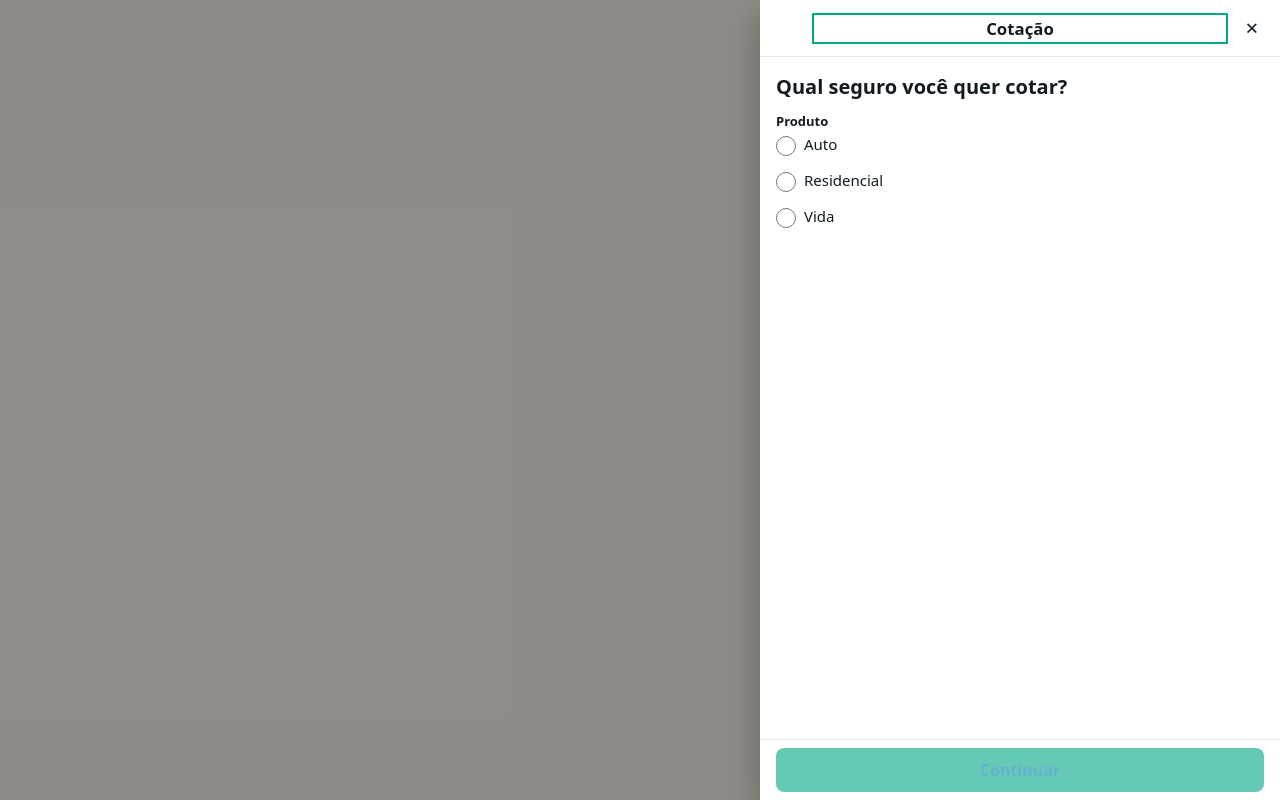
FlowSheet › Back returns to the previous screen and keeps the values
Click the radio button labelled "Auto".
click(786, 146)  # box x1=776 y1=136 x2=796 y2=156
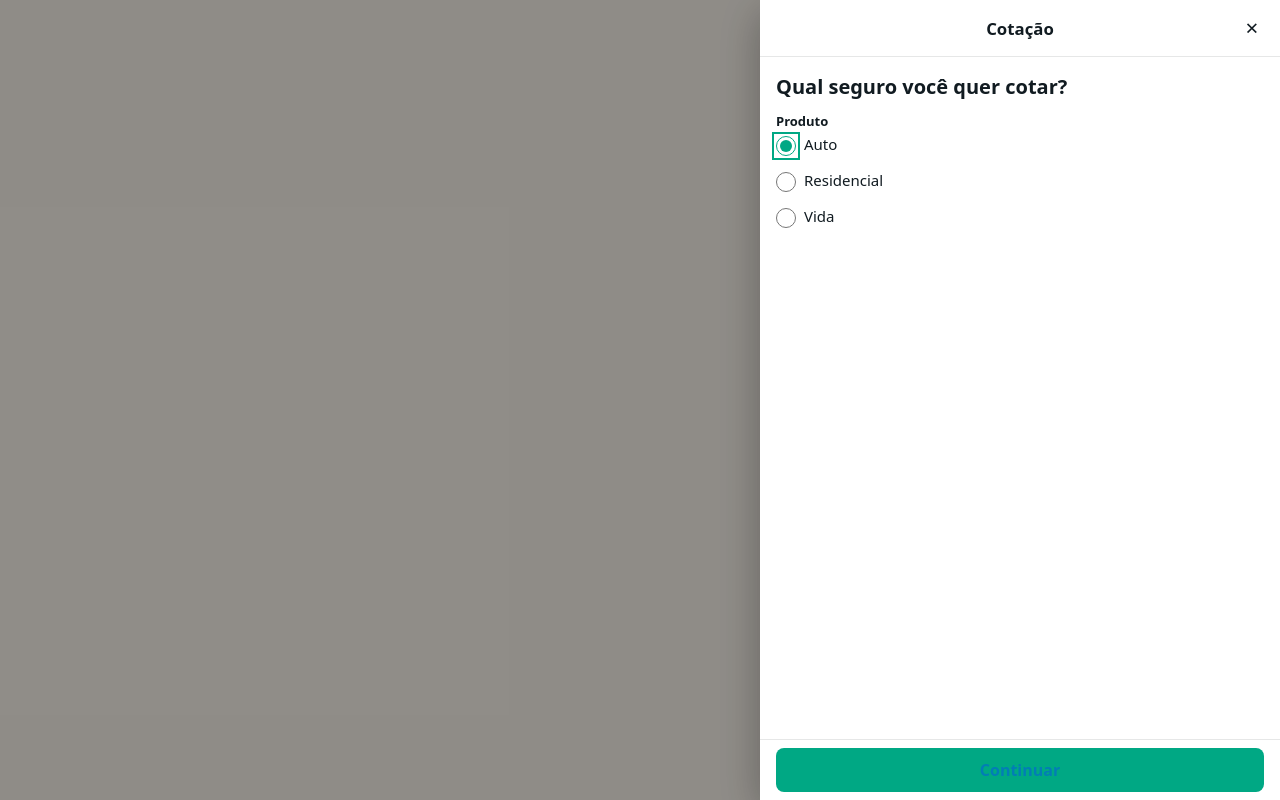
Click the button "Continuar".
click(1020, 770)  # box x1=776 y1=748 x2=1264 y2=792
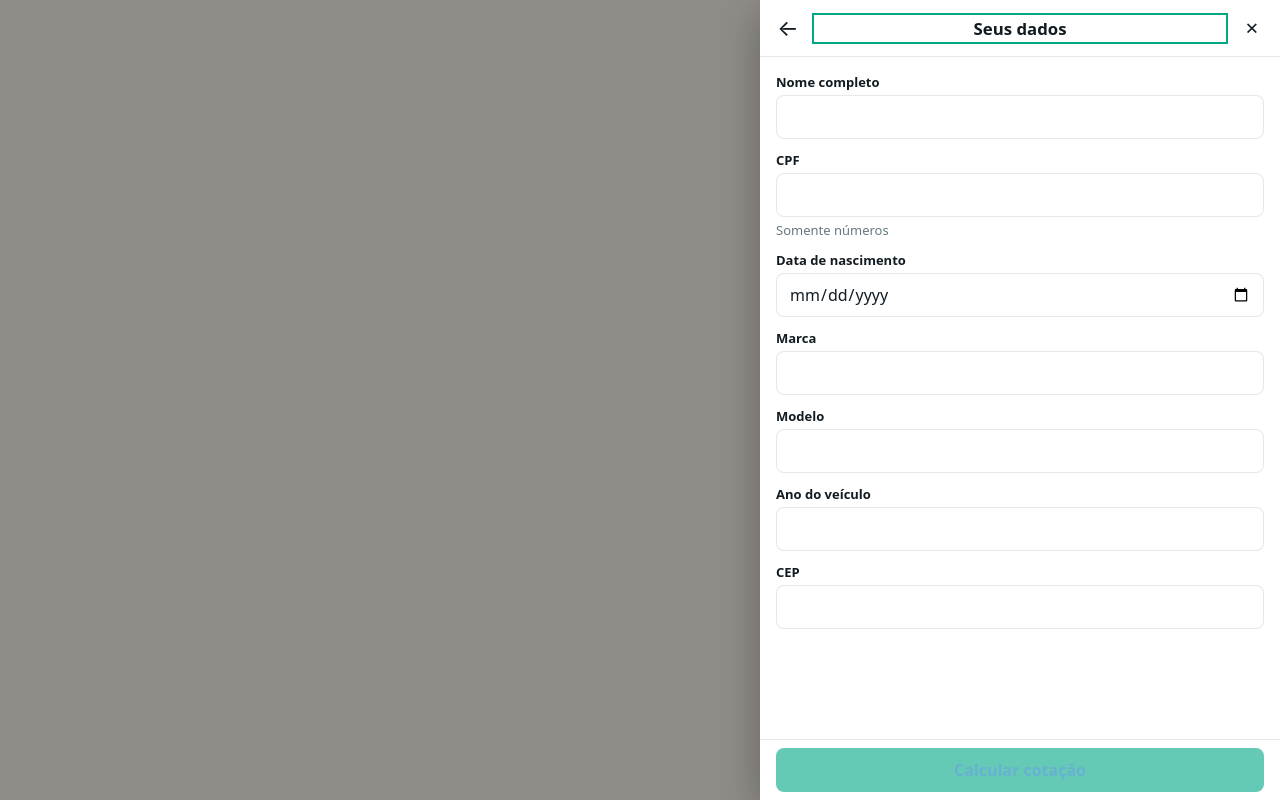
Type "Ana" into the field labelled "Nome completo".
click(1020, 117); type("Ana")  # box x1=776 y1=95 x2=1264 y2=139
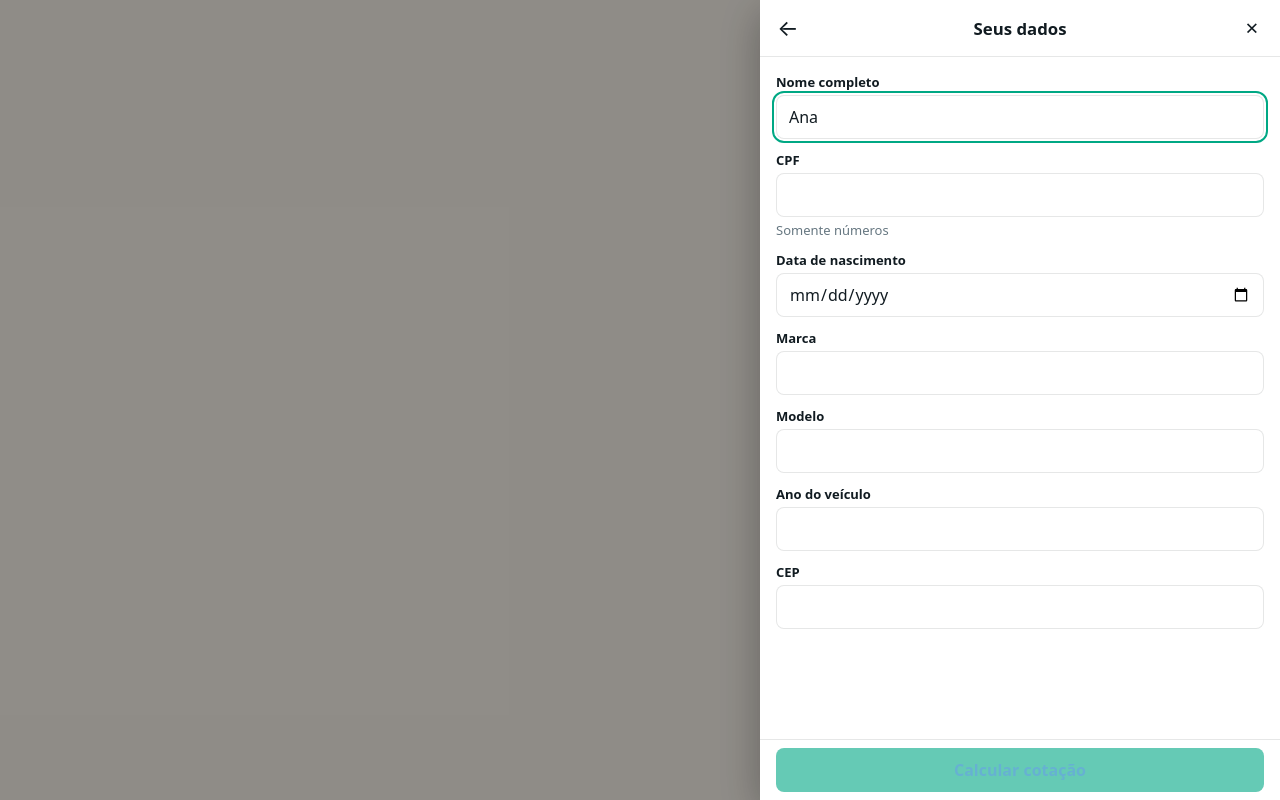
Click the button named "Voltar".
click(788, 28)  # box x1=768 y1=8 x2=808 y2=48
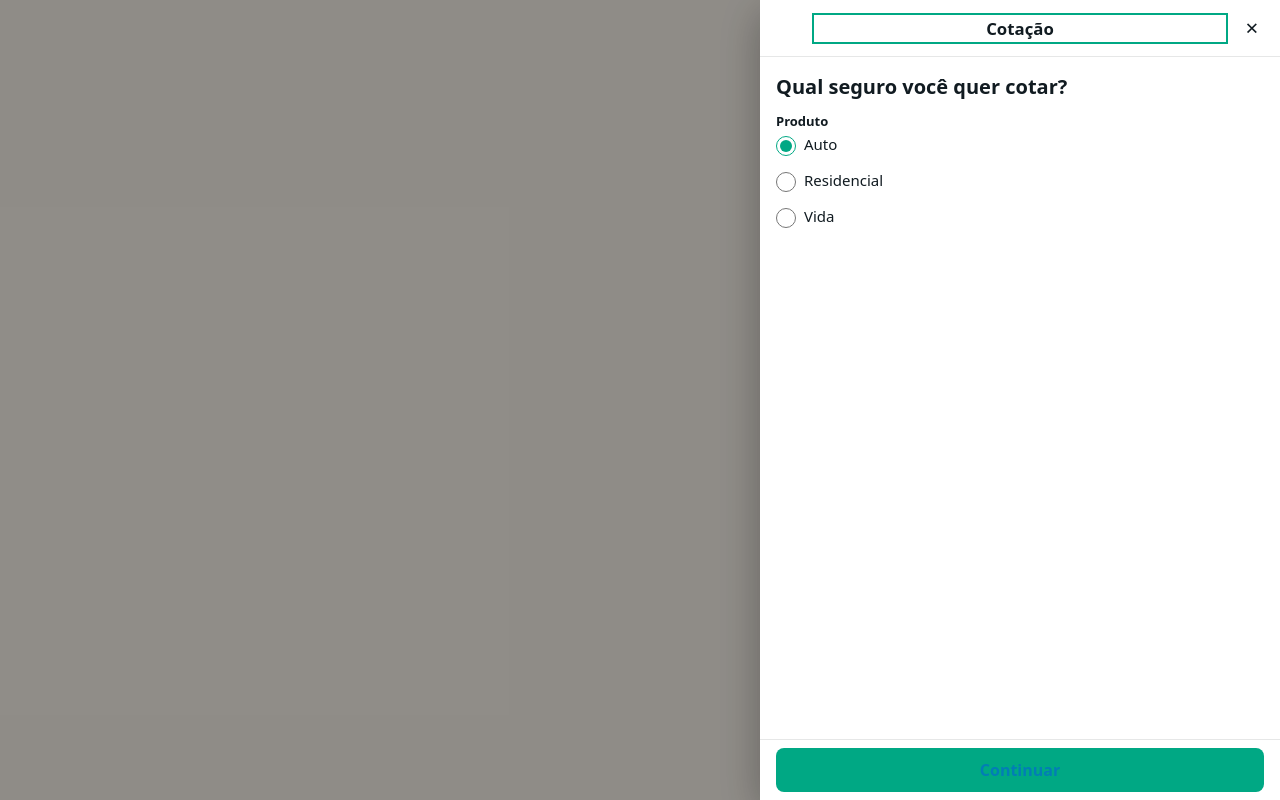
Now the radio button labelled "Auto" is checked, box x1=776 y1=136 x2=796 y2=156
Click the button "Continuar".
click(1020, 770)  # box x1=776 y1=748 x2=1264 y2=792
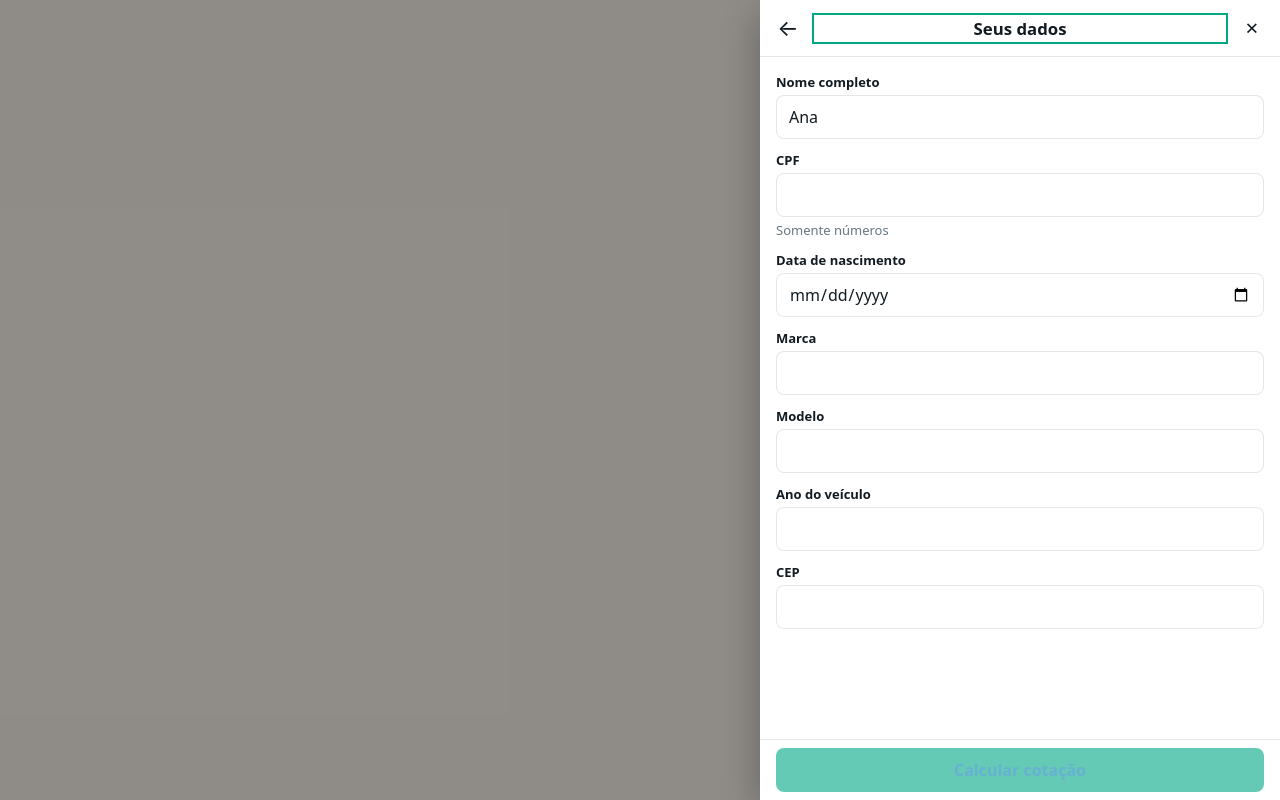
Now the field labelled "Nome completo" holds "Ana", box x1=776 y1=95 x2=1264 y2=139
